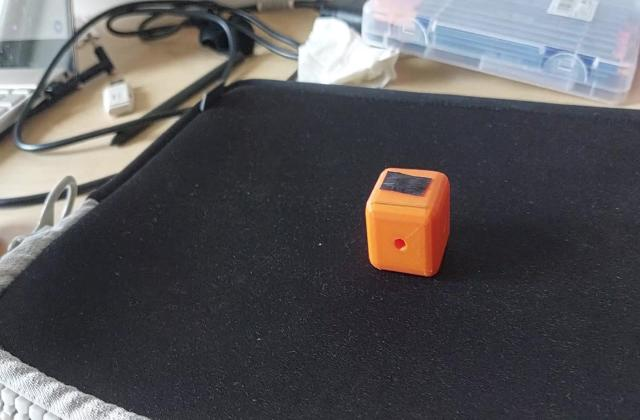cube: (360, 168, 451, 281)
